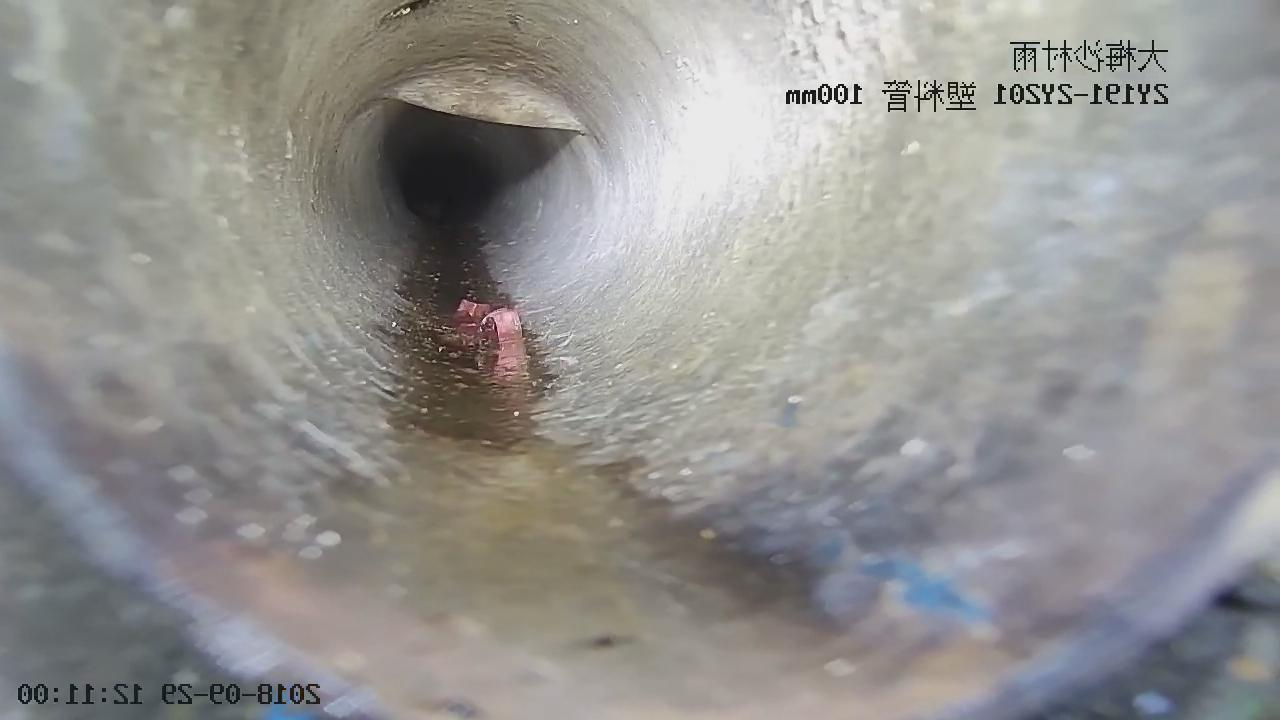YWCR: (393, 72, 582, 130)
